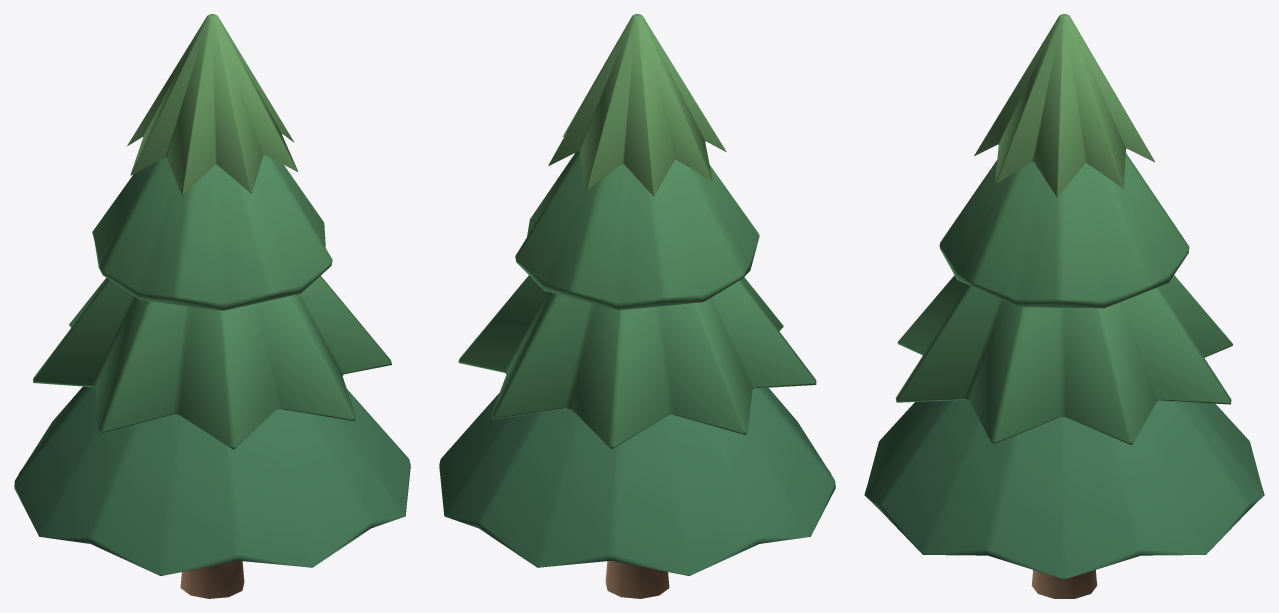
File: stylized_pine.glb
3 renders of one model, left to right at view 1: azimuth 30°, elevation 25°; view 2: azimuth 150°, elevation 25°; view 3: azimuth 270°, elevation 25°, orthographic.
Parts seen in each view (by area): view 1: PineTier_0, PineTier_1, PineTier_2, PineTier_3, Trunk; view 2: PineTier_0, PineTier_1, PineTier_2, PineTier_3, Trunk; view 3: PineTier_0, PineTier_1, PineTier_2, PineTier_3, Trunk.
Boxes of the visible parts, x1=… form: PineTier_0: x1=14, y1=386, x2=410, y2=575; PineTier_1: x1=33, y1=275, x2=391, y2=449; PineTier_2: x1=92, y1=155, x2=332, y2=310; PineTier_3: x1=127, y1=14, x2=297, y2=195; Trunk: x1=180, y1=560, x2=244, y2=598; PineTier_0: x1=439, y1=387, x2=835, y2=575; PineTier_1: x1=458, y1=275, x2=816, y2=449; PineTier_2: x1=515, y1=151, x2=759, y2=310; PineTier_3: x1=548, y1=14, x2=726, y2=196; Trunk: x1=605, y1=560, x2=669, y2=598; PineTier_0: x1=864, y1=399, x2=1264, y2=579; PineTier_1: x1=895, y1=275, x2=1232, y2=445; PineTier_2: x1=939, y1=153, x2=1189, y2=308; PineTier_3: x1=974, y1=14, x2=1154, y2=197; Trunk: x1=1031, y1=570, x2=1097, y2=598.
Bounding box in the file's own units: 4.65 × 7.3 × 4.65.
